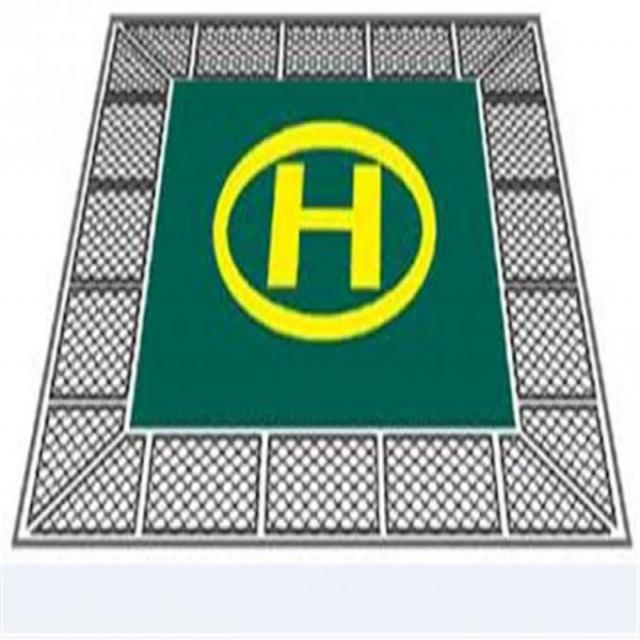helipad: (207, 114, 439, 346)
